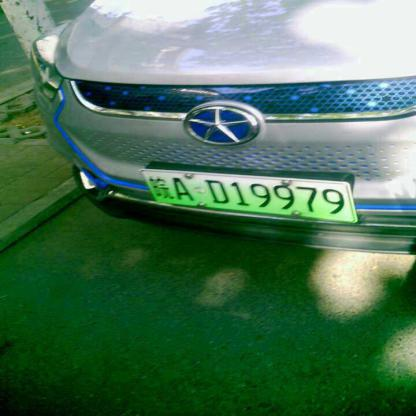lp: (140, 170, 355, 221)
